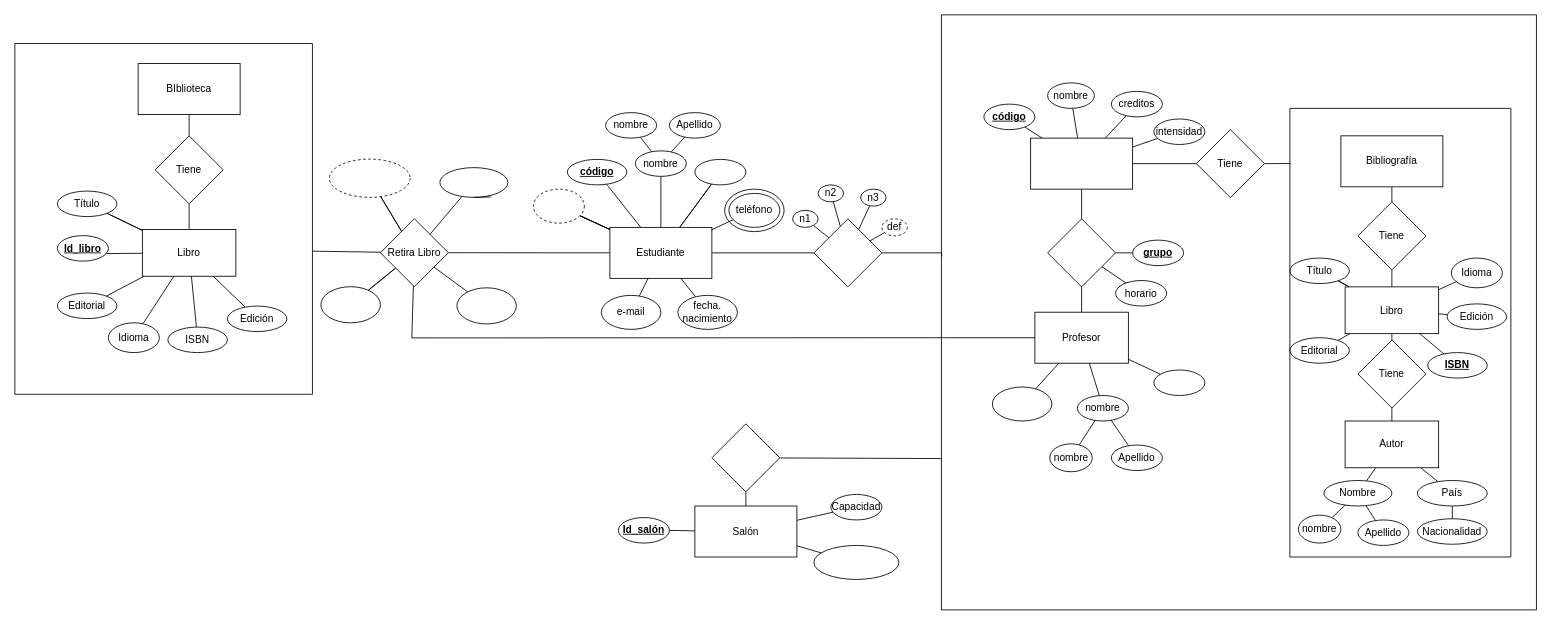
The diagram is 1551 pixels wide and 625 high, and some of its shapes have lost their labels. The shapes that lost their labels are listed below. From the top down, each one's centre as x and y in pixels, then its label:
(369,177): Fecha Optima Retorno
(473,182): Id_prestamo
(720,172): dirección
(1081,163): Asignatura
(558,205): Edad
(847,252): Cursa
(1081,252): Imparte
(350,304): Fecha prestamo
(486,305): Fecha Retorno
(1179,382): Profesión
(1022,403): Id_profesor
(745,457): Asocia
(856,562): N_computadores
